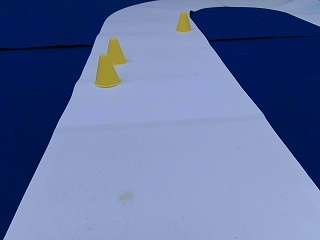cone: (94, 54, 121, 87), (107, 38, 126, 64), (175, 12, 191, 31)
